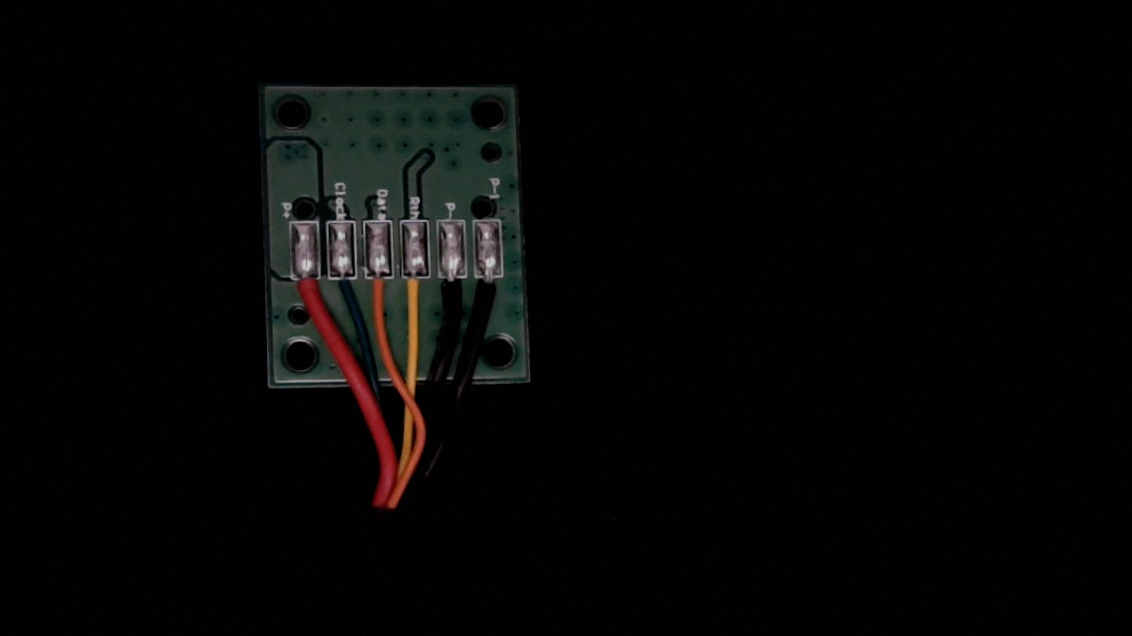Black: (436, 262, 468, 317)
Black1: (473, 262, 505, 318)
Green: (325, 264, 359, 308)
Orange: (362, 263, 393, 311)
Red: (288, 263, 321, 307)
Yellow: (397, 263, 434, 313)
